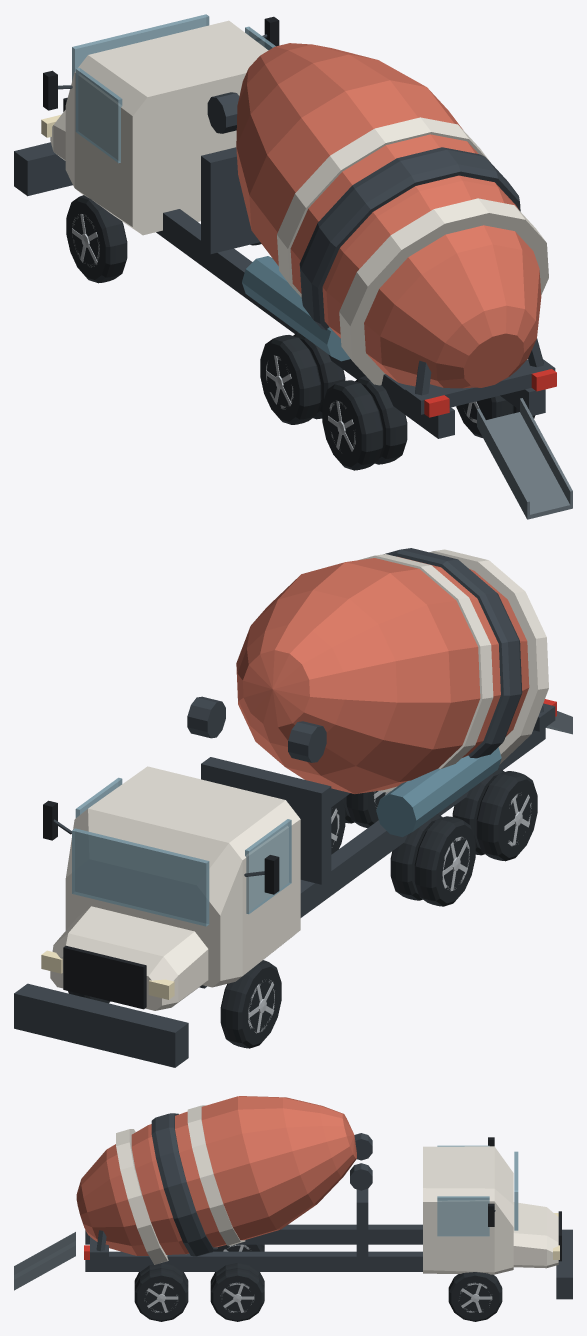
File: LAND_09.obj
3 renders of one model, top to bottom at view 1: azimuth 30°, elevation 25°; view 2: azimuth 150°, elevation 25°; view 3: azimuth 270°, elevation 25°, orthographic. The views are drawn at different scales.
Parts seen in each view (by area): view 1: drum, cab, drum_bands, drum_ring, support_frame, wheel_R2_L, chute, frame, wheel_R1_L, windows, wheel_F_L, water_tank (+4 smaller); view 2: drum, cab, windows, support_frame, bumper, drum_bands, hood, wheel_R1_L, wheel_R2_L, drum_ring, water_tank, frame (+5 smaller); view 3: drum, cab, frame, drum_bands, drum_ring, hood, wheel_R1_R, wheel_R2_R, windows, support_frame, wheel_F_R, chute (+2 smaller).
Part boxes in pixels (bbox=[...]): drum: bbox=[236, 43, 541, 388]; cab: bbox=[65, 20, 268, 235]; drum_bands: bbox=[277, 117, 548, 385]; drum_ring: bbox=[299, 147, 520, 330]; support_frame: bbox=[201, 92, 555, 414]; wheel_R2_L: bbox=[322, 376, 407, 470]; chute: bbox=[477, 398, 572, 519]; frame: bbox=[156, 209, 545, 438]; wheel_R1_L: bbox=[260, 332, 345, 424]; windows: bbox=[72, 14, 275, 163]; wheel_F_L: bbox=[66, 195, 127, 283]; water_tank: bbox=[242, 256, 350, 361]; drum: bbox=[236, 556, 529, 793]; cab: bbox=[65, 766, 300, 987]; windows: bbox=[72, 777, 291, 926]; support_frame: bbox=[187, 696, 555, 884]; bumper: bbox=[14, 983, 188, 1067]; drum_bands: bbox=[358, 549, 548, 792]; hood: bbox=[50, 906, 208, 1010]; wheel_R1_L: bbox=[390, 814, 475, 906]; wheel_R2_L: bbox=[452, 768, 537, 861]; drum_ring: bbox=[384, 548, 522, 758]; water_tank: bbox=[376, 747, 501, 837]; frame: bbox=[199, 727, 545, 988]; drum: bbox=[76, 1096, 356, 1255]; cab: bbox=[423, 1146, 513, 1274]; frame: bbox=[85, 1224, 422, 1271]; drum_bands: bbox=[116, 1105, 245, 1264]; drum_ring: bbox=[151, 1113, 217, 1256]; hood: bbox=[513, 1202, 558, 1268]; wheel_R1_R: bbox=[210, 1263, 264, 1321]; wheel_R2_R: bbox=[134, 1263, 188, 1321]; windows: bbox=[437, 1145, 518, 1236]; support_frame: bbox=[90, 1133, 372, 1260]; wheel_F_R: bbox=[448, 1272, 502, 1321]; chute: bbox=[14, 1232, 75, 1290].
Size of the model in its own units: 3.44 by 4.5 by 11.75.
